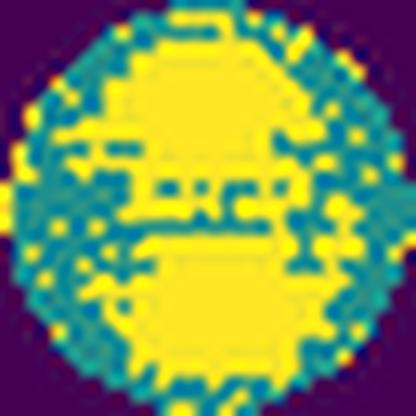Random: (52, 38, 369, 395)
